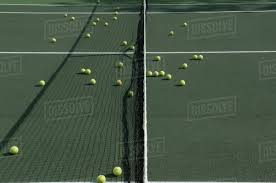tennis_ball: (112, 166, 122, 177), (8, 145, 19, 155), (97, 174, 105, 183), (114, 79, 123, 87), (38, 78, 46, 87), (116, 60, 124, 69), (180, 62, 189, 70), (127, 89, 134, 99), (154, 54, 161, 62), (179, 79, 186, 87), (168, 29, 175, 37), (50, 36, 57, 43), (191, 54, 198, 61), (197, 54, 204, 61), (90, 78, 96, 86), (121, 39, 127, 47), (166, 73, 172, 81), (85, 68, 91, 75), (85, 32, 91, 39), (129, 44, 135, 51), (159, 70, 165, 77), (152, 70, 158, 77), (70, 15, 76, 22), (62, 11, 68, 18), (183, 21, 188, 29), (79, 68, 85, 74), (103, 21, 109, 27), (147, 69, 151, 77), (112, 15, 117, 21), (115, 10, 120, 16), (96, 17, 102, 22), (91, 21, 96, 26)
